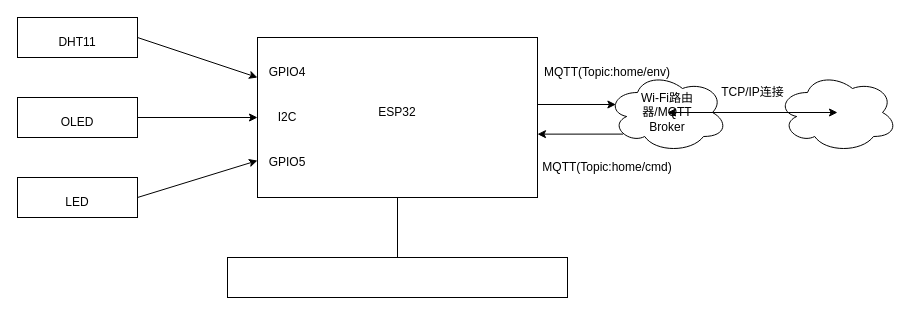
Some shapes in this 915 by 315 pixel diagram are drawn without their labels. The box of each missing label's shape, as (x1, y1, x2, y2) in pixels:
MQTTX客户端/手机网页: (776, 72, 898, 152)
可靠性机制：断线重连/传感器超时重试/看门狗: (226, 256, 568, 298)
